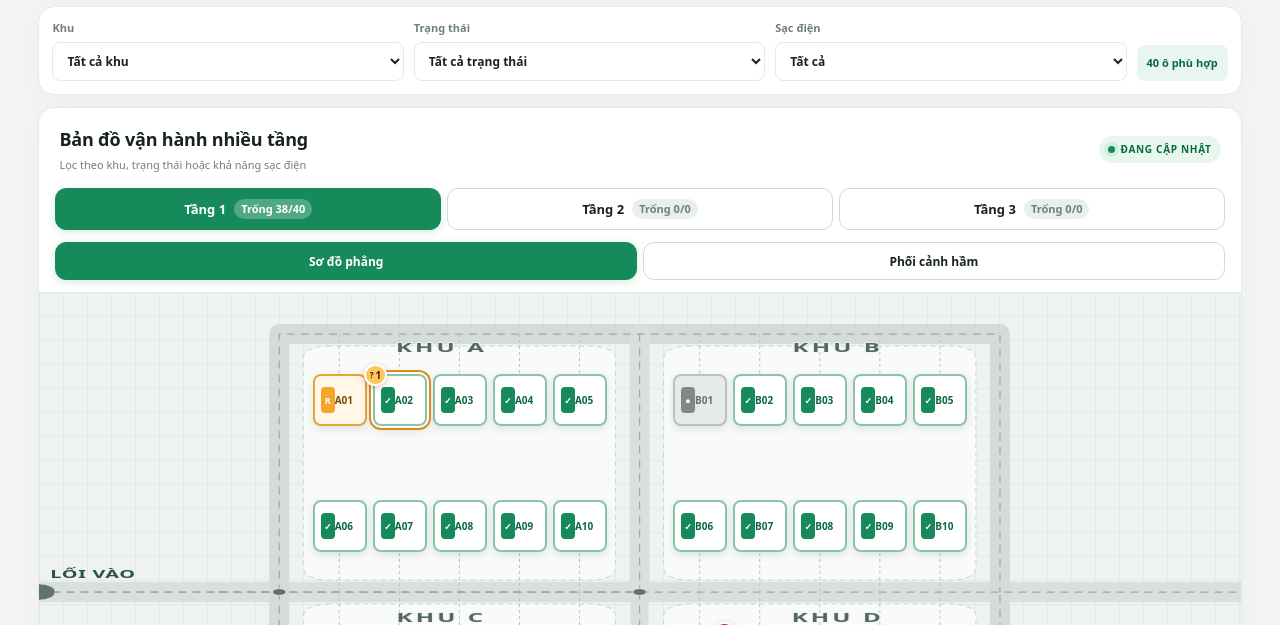
Test: AdminDashboard report warnings › loads observation evidence lazily and keeps verification controls usable on failure
(page scrolled)
Step 1. Click the button "✓ A02 ? 1" → (400, 400), box [373,374,427,426]
(page scrolled)
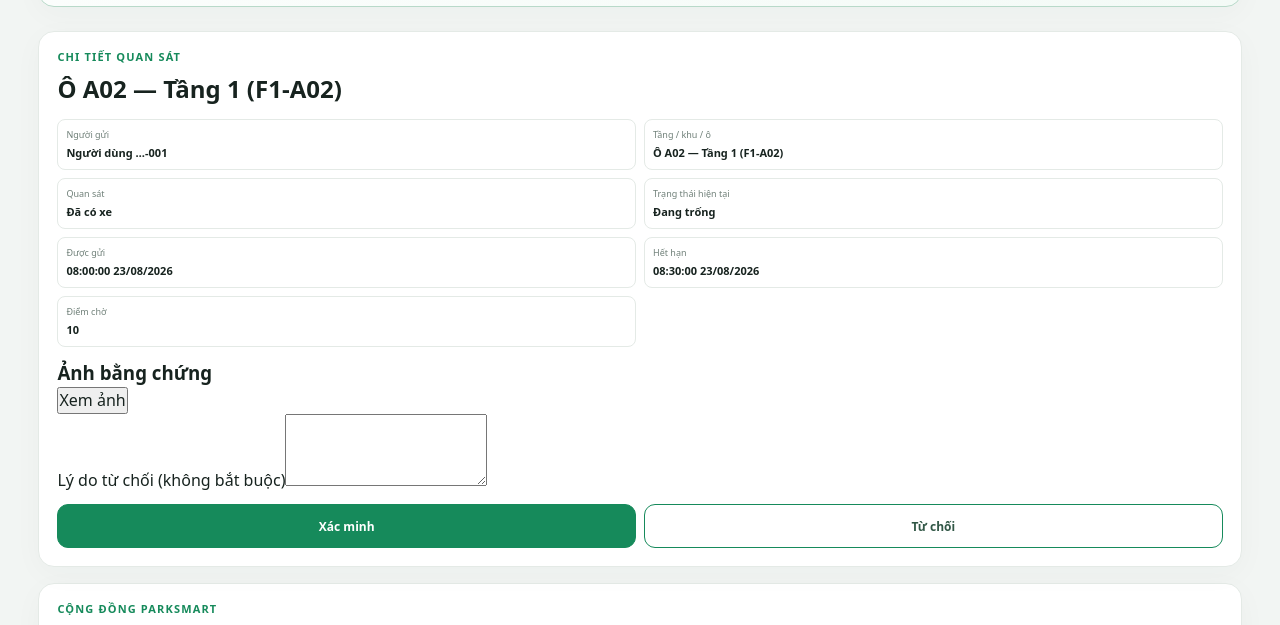
Step 2. Click the button "Xem ảnh" → (93, 401), box [57,387,128,414]
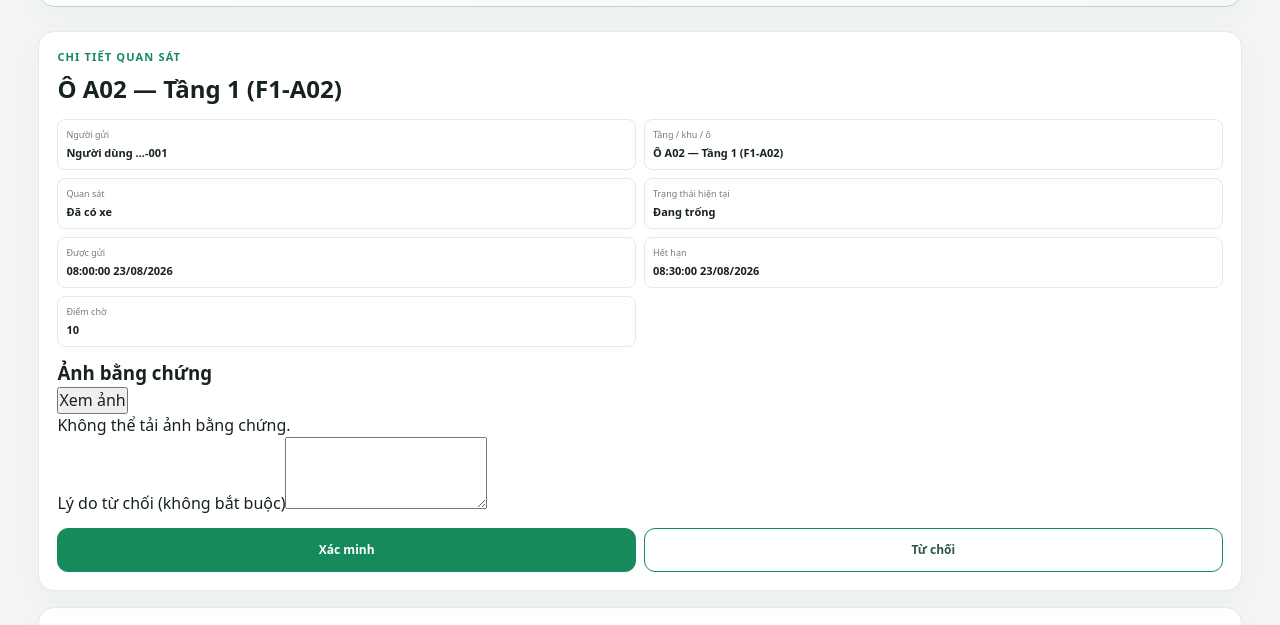
Result: the button "Xác minh" is enabled at [57,528,636,572]
Result: the button "Từ chối" is enabled at [644,528,1223,572]
Result: the message reads "Không thể tải ảnh bằng chứng." at [57,414,291,436]
